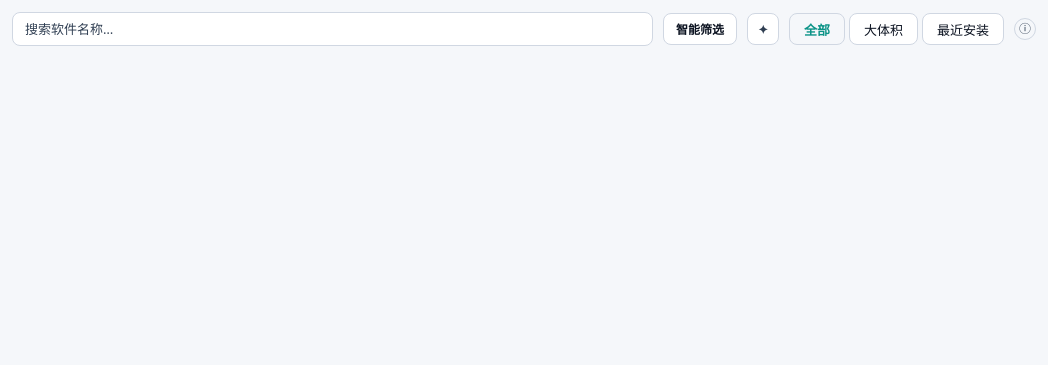
Scenario: states the backup prerequisite in the actual guide in zh
The width and height of the screenshot is (1048, 365).
Click the button named "如何深度卸载".
click(1025, 29)  # box [1014, 18, 1036, 40]
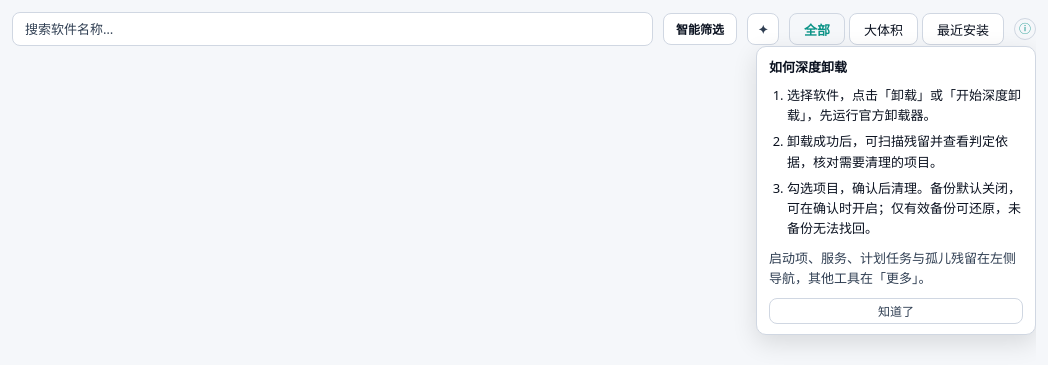
Expected: the element named "如何深度卸载" shows "未备份无法找回", [787, 179, 1021, 237]
